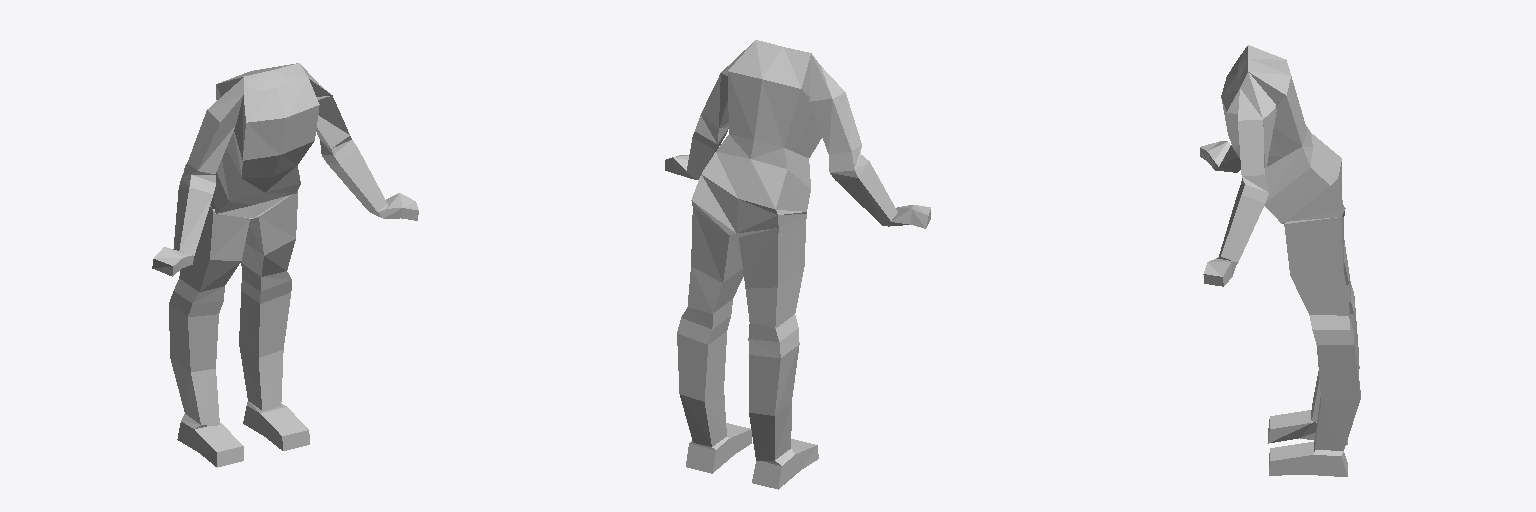
The model's file is Cachier.obj.
3 views of the same model, side by side, from view 1: azimuth 30°, elevation 25°; view 2: azimuth 150°, elevation 25°; view 3: azimuth 270°, elevation 25° (orthographic).
Parts seen in each view (by area): view 1: hand_Cube.015; view 2: hand_Cube.015; view 3: hand_Cube.015.
Part boxes in pixels (x1,y1,x2,y2): hand_Cube.015: (152, 63, 418, 467); hand_Cube.015: (665, 40, 930, 489); hand_Cube.015: (1200, 45, 1360, 476).
Bounding box in the file's own units: 1.23 × 1.76 × 0.6488.